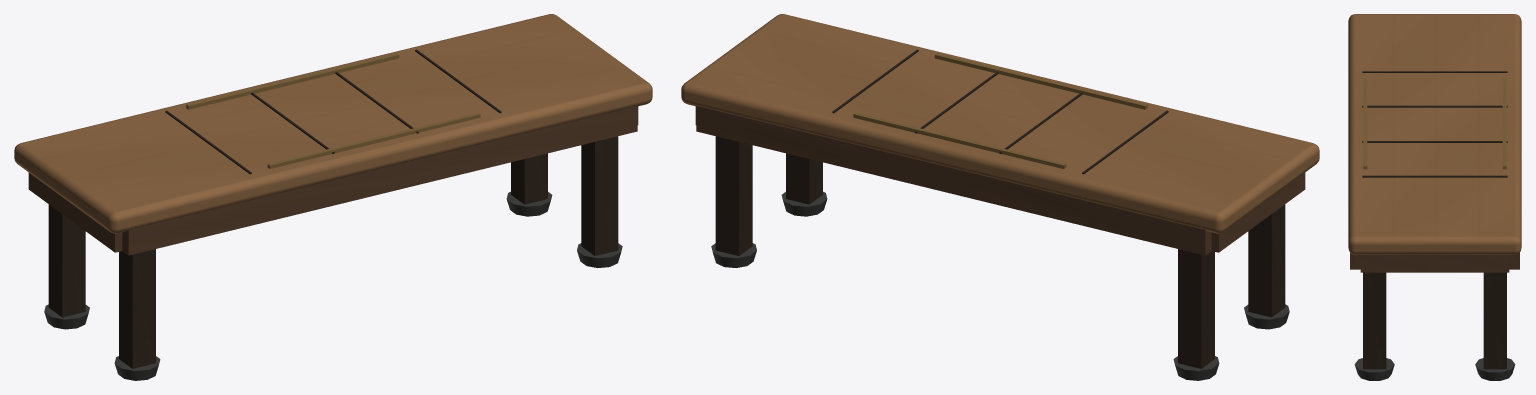
Rendered from sk-household-table-royal.glb.
3 renders of one model, left to right at view 1: azimuth 30°, elevation 25°; view 2: azimuth 150°, elevation 25°; view 3: azimuth 270°, elevation 25°, orthographic. The views are drawn at different scales.
Parts seen in each view (by area): view 1: household:table_royal-static-wood (×3), household:table_royal-static-metal (×2); view 2: household:table_royal-static-wood (×3), household:table_royal-static-metal (×2); view 3: household:table_royal-static-wood (×3), household:table_royal-static-metal (×2).
Part boxes in pixels (x1,y1,x2,y2): household:table_royal-static-wood (×3): [14, 14, 652, 368]; household:table_royal-static-metal (×2): [44, 53, 622, 380]; household:table_royal-static-wood (×3): [681, 14, 1319, 368]; household:table_royal-static-metal (×2): [711, 53, 1289, 380]; household:table_royal-static-wood (×3): [1348, 14, 1521, 369]; household:table_royal-static-metal (×2): [1354, 78, 1515, 380].
Size of the model in its own units: 3.48 by 1.11 by 1.12.
5 materials, 5 textured.
